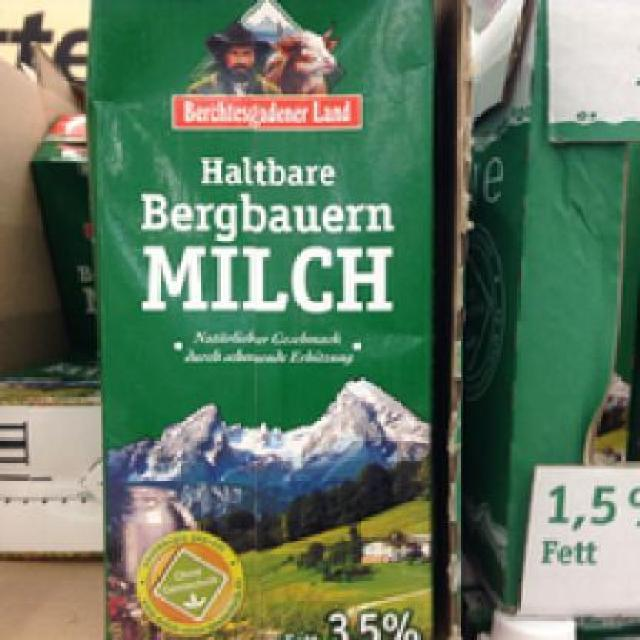Milk: (81, 0, 435, 635)
